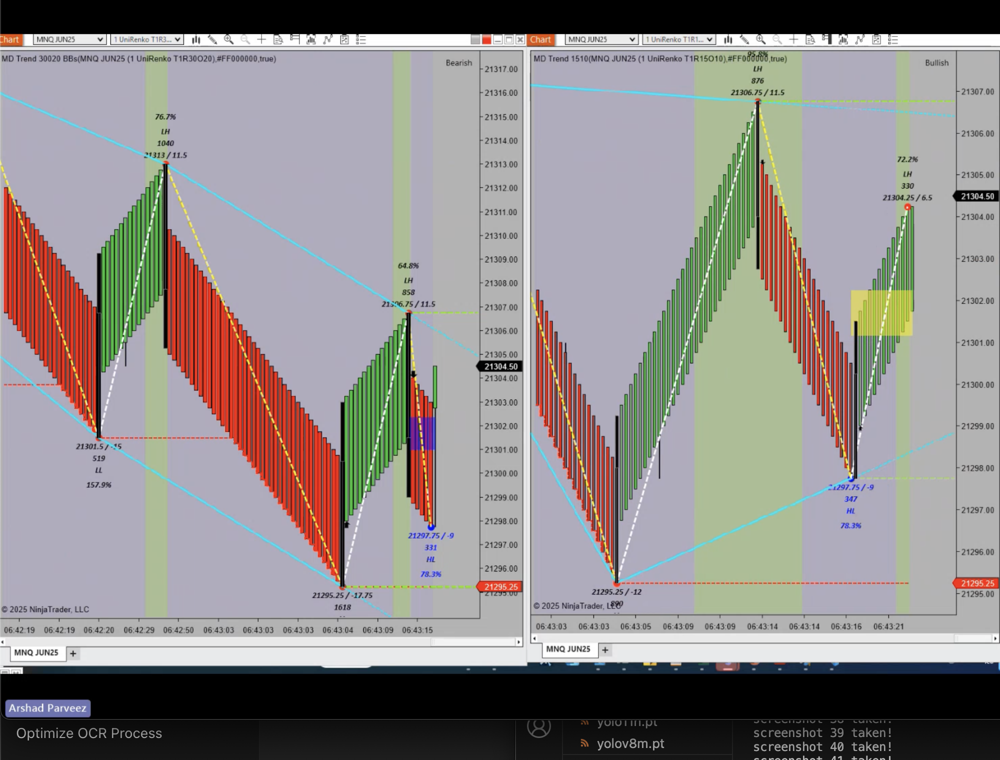HL: (421, 550, 442, 567), (840, 503, 861, 519)
LH: (896, 166, 920, 184), (155, 123, 176, 140), (749, 63, 769, 76), (403, 273, 417, 290)
LL: (89, 462, 108, 478)
